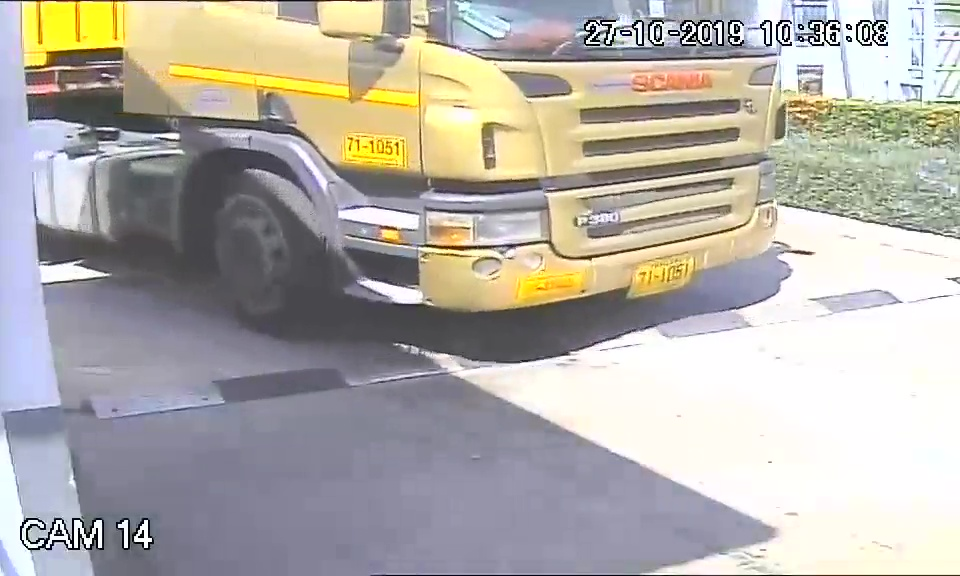truck: (142, 3, 789, 337)
